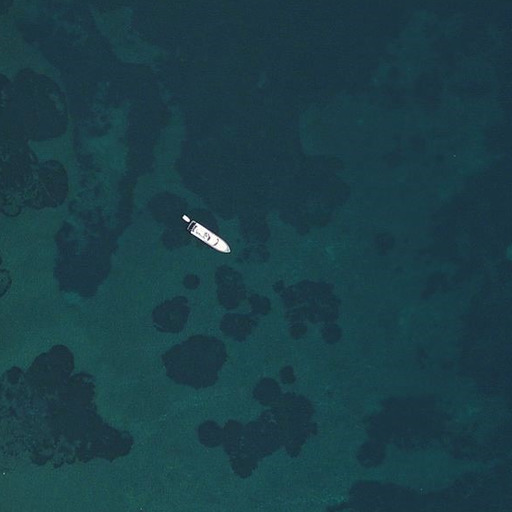ship: (178, 212, 232, 258)
